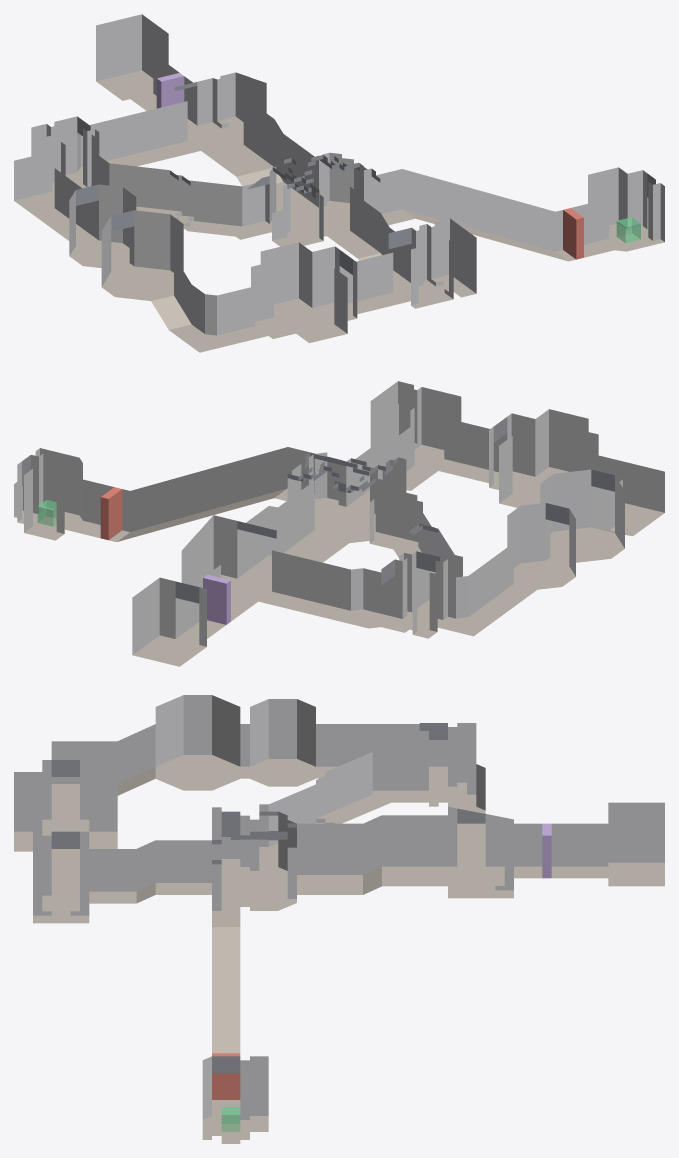
File: works_07.glb
3 renders of one model, top to bottom at view 1: azimuth 30°, elevation 25°; view 2: azimuth 150°, elevation 25°; view 3: azimuth 270°, elevation 25°, orthographic. The views are drawn at different scales.
Visible parts, largest first — view 1: corridor:5, corridor:1, corridor:3, corridor:2, corridor:6, room:5, room:2, room:0, room:1, room:3, corridor:0, entities (+10 smaller); view 2: corridor:5, corridor:1, corridor:6, corridor:2, room:5, room:0, room:3, room:2, room:1, corridor:3, entities, room:4/portals (+10 smaller); view 3: corridor:5, corridor:2, corridor:3, corridor:0, corridor:1, corridor:4, room:5, room:1, room:3, room:2, room:0, room:4 (+7 smaller).
Part boxes in pixels (x1=…): corridor:5: x1=14, y1=153, x2=405, y2=352; corridor:1: x1=371, y1=169, x2=613, y2=261; corridor:3: x1=96, y1=154, x2=269, y2=239; corridor:2: x1=206, y1=97, x2=314, y2=211; corridor:6: x1=77, y1=101, x2=200, y2=176; room:5: x1=96, y1=14, x2=168, y2=100; room:2: x1=588, y1=167, x2=664, y2=251; room:0: x1=388, y1=218, x2=476, y2=308; room:1: x1=269, y1=152, x2=367, y2=245; room:3: x1=174, y1=72, x2=266, y2=153; corridor:0: x1=331, y1=194, x2=411, y2=287; entities: x1=156, y1=73, x2=640, y2=259; corridor:5: x1=439, y1=409, x2=664, y2=636; corridor:1: x1=69, y1=447, x2=314, y2=541; corridor:6: x1=259, y1=550, x2=394, y2=628; corridor:2: x1=237, y1=484, x2=348, y2=586; room:5: x1=132, y1=577, x2=206, y2=666; room:0: x1=370, y1=381, x2=461, y2=474; room:3: x1=181, y1=515, x2=276, y2=611; room:2: x1=17, y1=448, x2=82, y2=540; room:1: x1=287, y1=452, x2=406, y2=543; corridor:3: x1=369, y1=498, x2=462, y2=612; entities: x1=37, y1=487, x2=230, y2=624; room:4/portals: x1=395, y1=552, x2=447, y2=631; corridor:5: x1=14, y1=695, x2=447, y2=891; corridor:2: x1=297, y1=815, x2=447, y2=894; corridor:3: x1=259, y1=748, x2=419, y2=854; corridor:0: x1=89, y1=840, x2=211, y2=903; corridor:1: x1=212, y1=868, x2=240, y2=1115; corridor:4: x1=514, y1=823, x2=608, y2=878; room:5: x1=608, y1=802, x2=664, y2=886; room:1: x1=212, y1=807, x2=296, y2=910; room:3: x1=448, y1=806, x2=513, y2=898; room:2: x1=202, y1=1056, x2=268, y2=1139; room:0: x1=33, y1=831, x2=89, y2=923; room:4: x1=419, y1=723, x2=476, y2=806.
Bounding box in the file's own units: 74 × 18 × 69.
